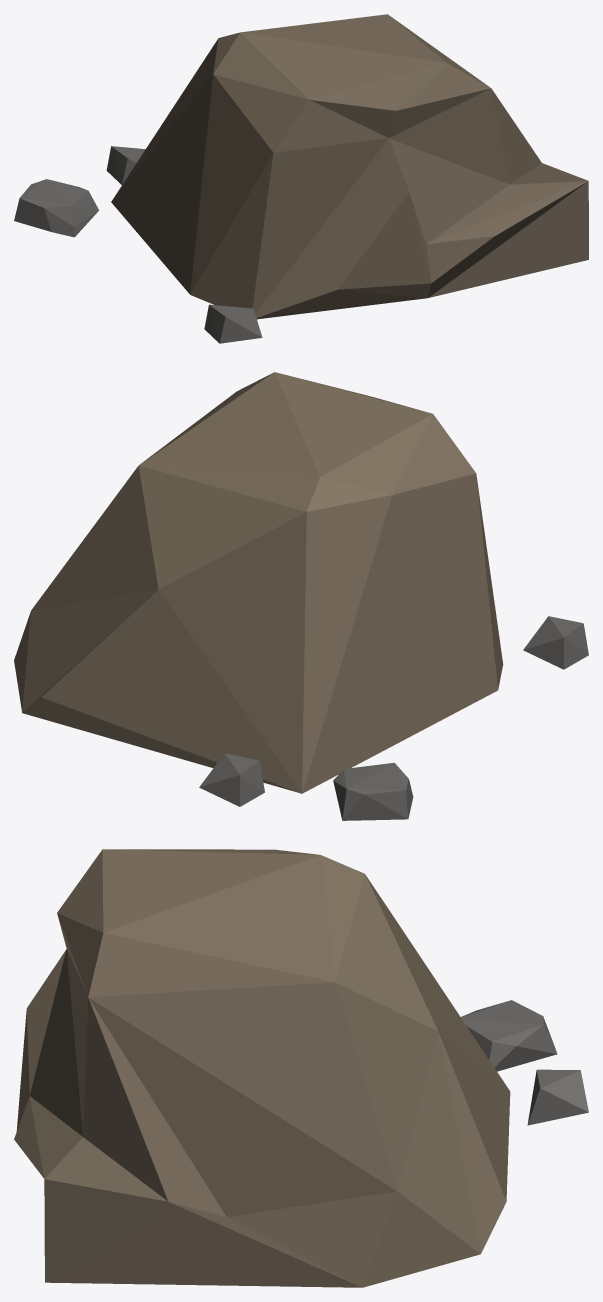
The model's file is rock2.gltf.
3 renders of one model, top to bottom at view 1: azimuth 30°, elevation 25°; view 2: azimuth 150°, elevation 25°; view 3: azimuth 270°, elevation 25°, orthographic. The views are drawn at different scales.
Visible parts, largest first — view 1: skala; view 2: skala; view 3: skala.
Part boxes in pixels (<box>): skala: <box>14,14,588,343</box>; skala: <box>14,372,588,820</box>; skala: <box>14,849,588,1287</box>.
Bounding box in the file's own units: 1.87 × 0.931 × 1.77.
Materials: 1 (1 with a texture image).
